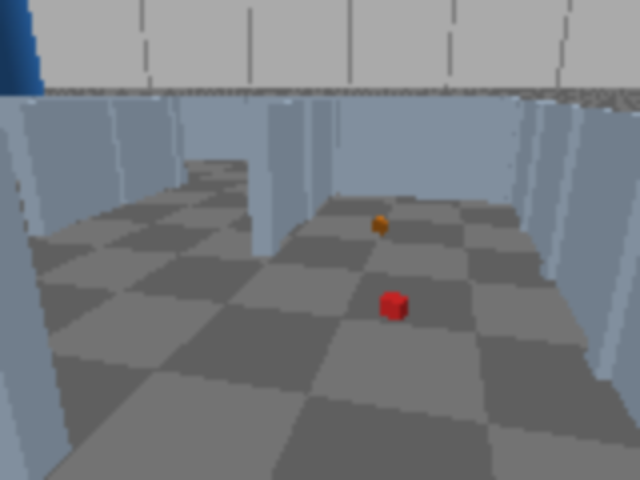puck: (379, 291, 409, 321), (370, 214, 392, 237)
